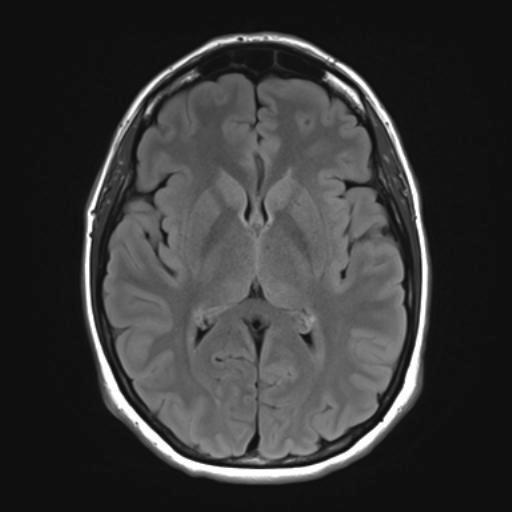Normal_Brain: (37, 1, 512, 512)
